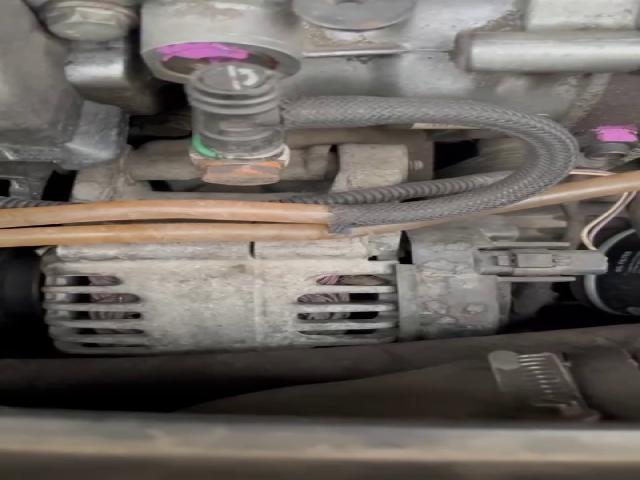alternator: (36, 211, 615, 357)
high_pressure_pump: (138, 0, 640, 158)
